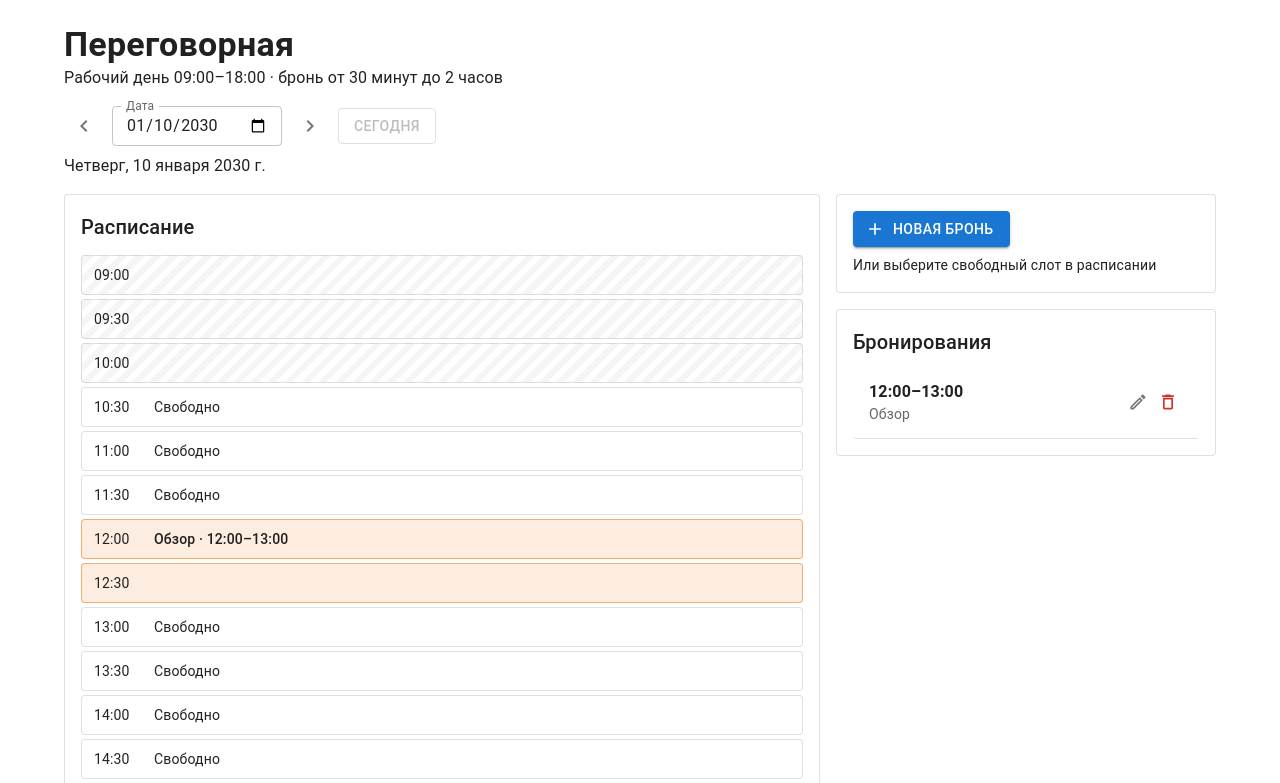
Test: редактирование и удаление › удаление требует подтверждения
This screenshot has width=1280, height=783.
Expected: the button "10:30 Свободно" is shown, [81, 387, 803, 427]
Click the button named "Удалить": (1168, 402) [1153, 386, 1183, 416]
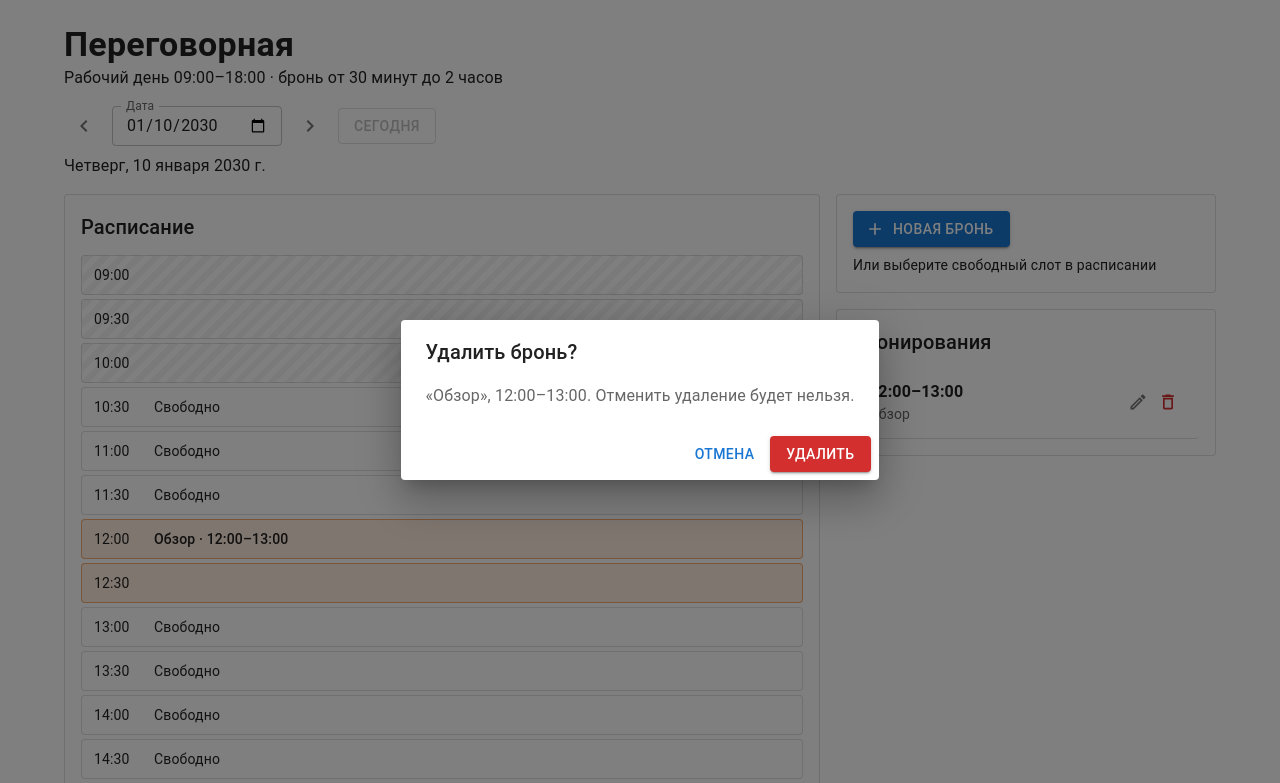
Click the button "Отмена": (725, 454) [687, 436, 762, 472]
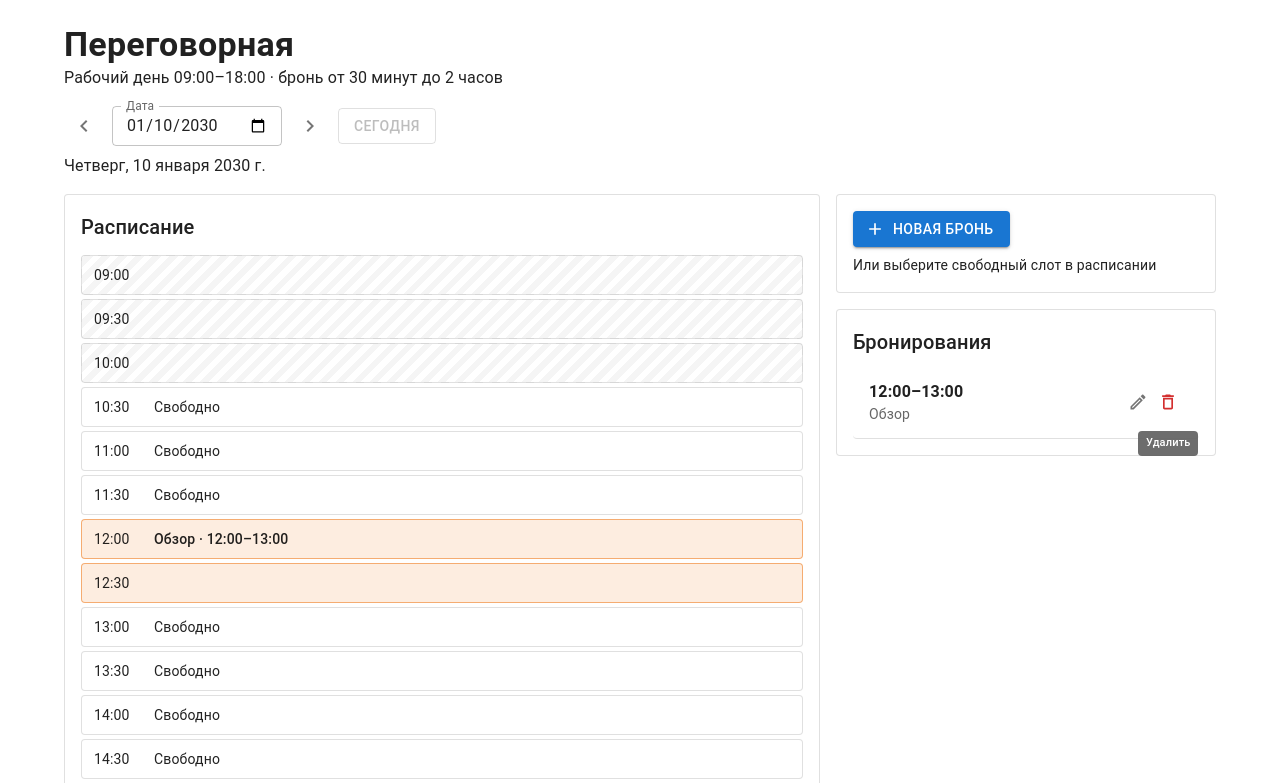
Result: the dialog is gone
Click the button named "Удалить": (1168, 402) [1153, 386, 1183, 416]
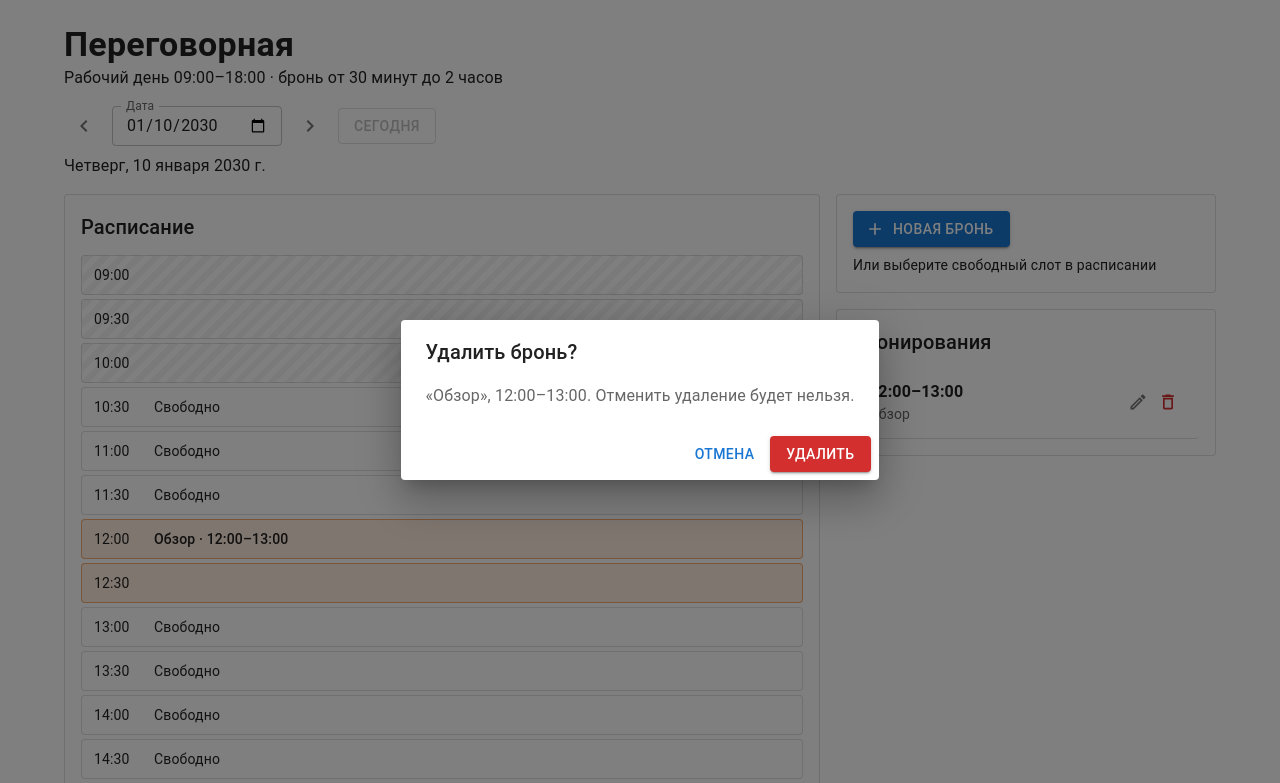
Click the button "Удалить": (820, 454) [770, 436, 871, 472]
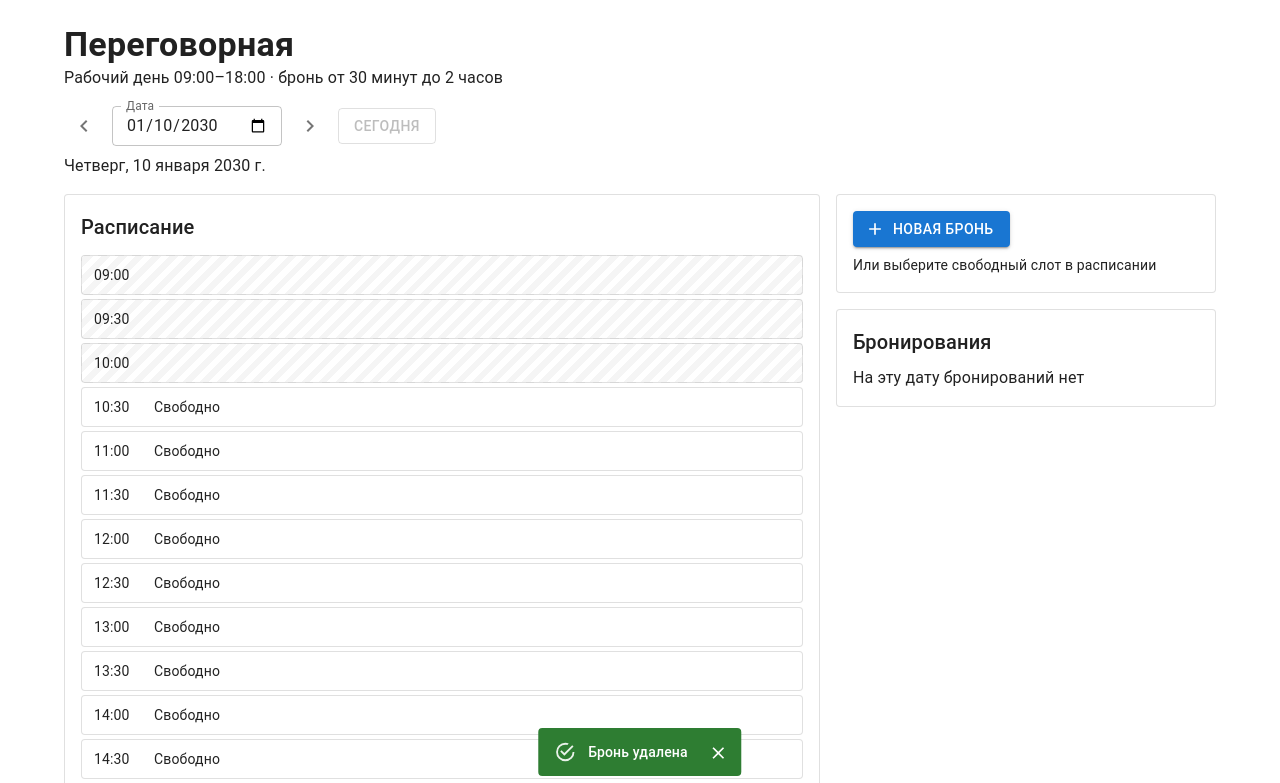
Result: the text "Бронь удалена" is shown at [588, 744, 688, 760]
Result: the text "На эту дату бронирований нет" is shown at [853, 368, 1084, 386]
